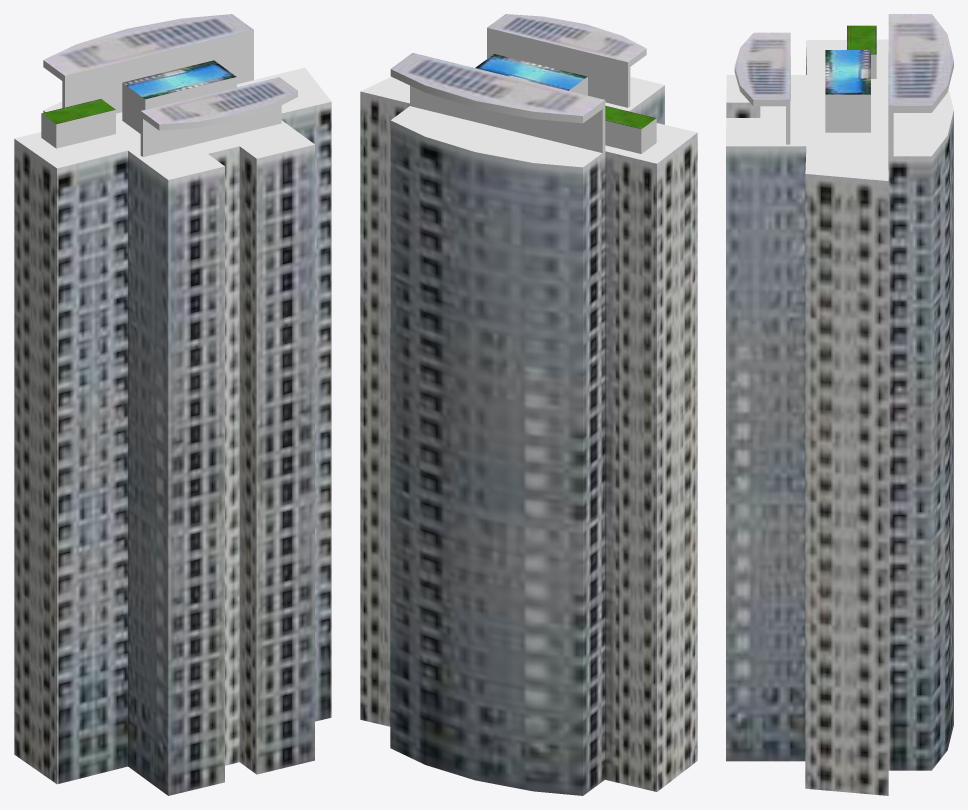
The picture shows the model from 3 angles, left to right: view 1: azimuth 30°, elevation 25°; view 2: azimuth 150°, elevation 25°; view 3: azimuth 270°, elevation 25°; orthographic projection. The views are drawn at different scales.
Parts seen in each view (by area): view 1: 5b1a32b41c21e330bca3ed79.001; view 2: 5b1a32b41c21e330bca3ed79.001; view 3: 5b1a32b41c21e330bca3ed79.001.
Part boxes in pixels (box(x1,y1,x2,y2)): 5b1a32b41c21e330bca3ed79.001: box(14, 14, 331, 795); 5b1a32b41c21e330bca3ed79.001: box(360, 14, 697, 795); 5b1a32b41c21e330bca3ed79.001: box(726, 14, 953, 795).
Bounding box in the file's own units: 44 × 96.35 × 29.91.
1 material, 1 textured.
